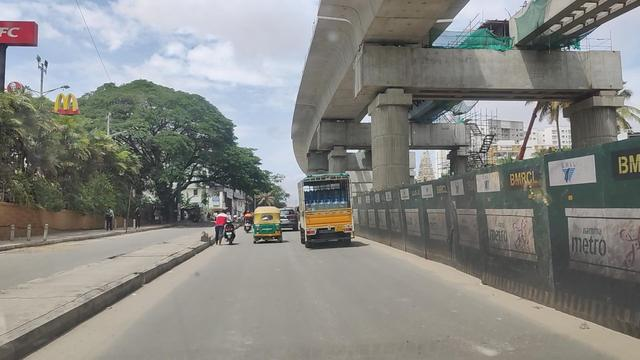HMV: (301, 170, 352, 248)
LMV: (254, 205, 281, 243)
